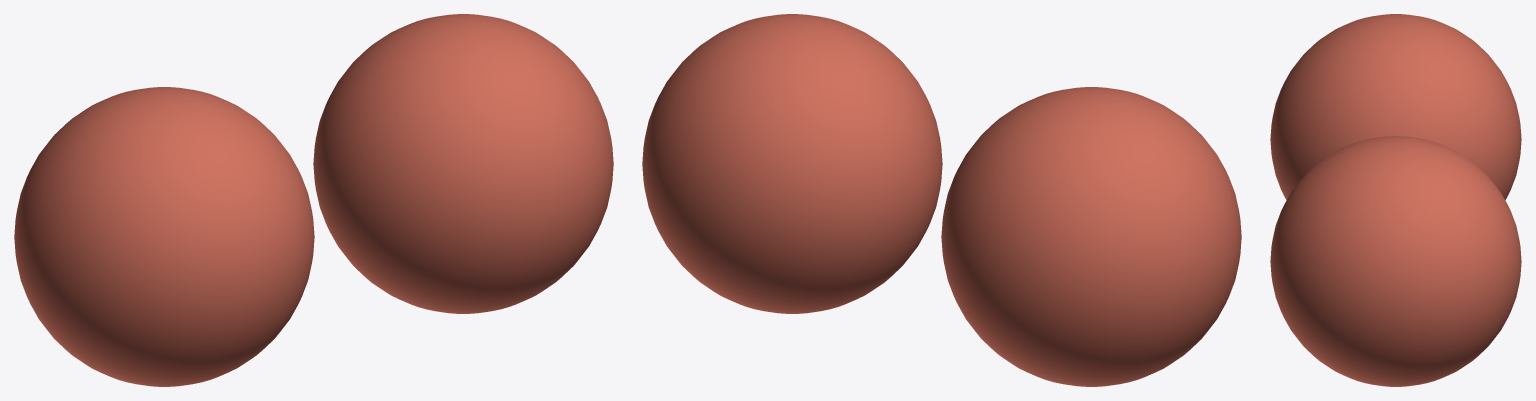
File: gltf-model-specular.glb
3 renders of one model, left to right at view 1: azimuth 30°, elevation 25°; view 2: azimuth 150°, elevation 25°; view 3: azimuth 270°, elevation 25°, orthographic. The views are drawn at different scales.
Visible parts, largest first — view 1: specular, standard; view 2: specular, standard; view 3: standard, specular.
Part boxes in pixels (x1,y1,x2,y2): specular: [14, 87, 314, 386]; standard: [313, 14, 613, 313]; specular: [941, 87, 1241, 386]; standard: [642, 14, 942, 313]; standard: [1270, 136, 1521, 386]; specular: [1270, 14, 1521, 199].
Bounding box in the file's own units: 4.3 × 2 × 2.
